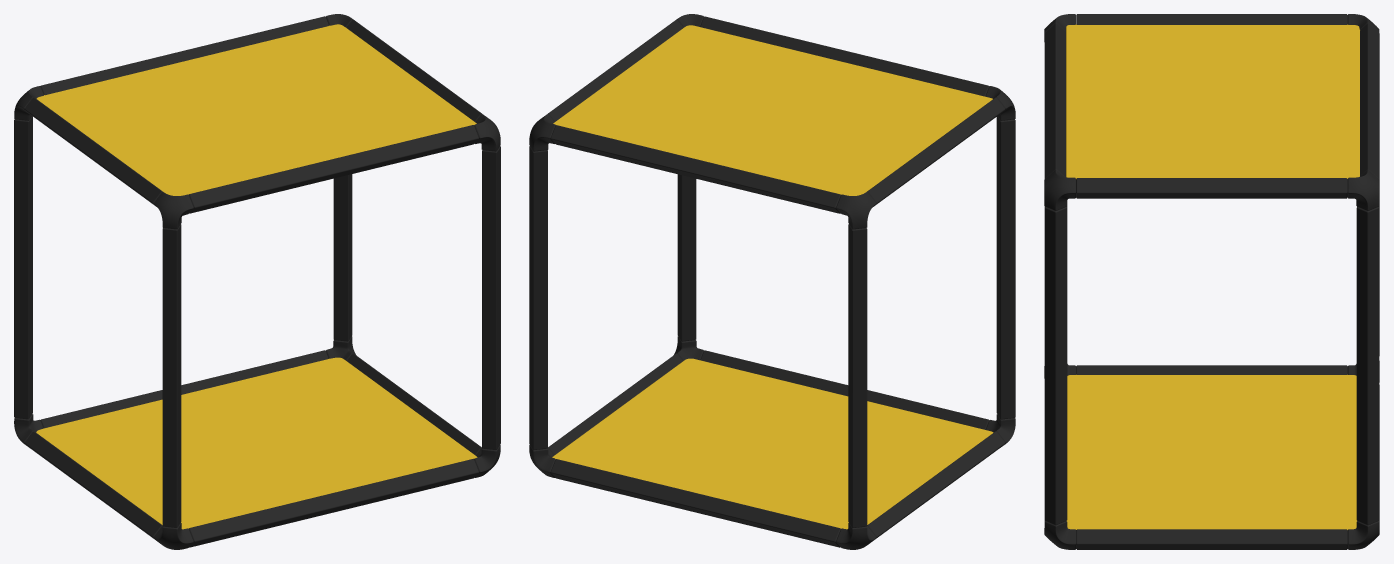
3 views of the same model, side by side, from view 1: azimuth 30°, elevation 25°; view 2: azimuth 150°, elevation 25°; view 3: azimuth 270°, elevation 25° (orthographic). The views are drawn at different scales.
Visible parts, largest first — view 1: 420x329x420; view 2: 420x329x420; view 3: 420x329x420.
Part boxes in pixels (<box>): 420x329x420: <box>14,14,500,549</box>; 420x329x420: <box>529,14,1015,549</box>; 420x329x420: <box>1044,14,1379,549</box>.
Bounding box in the file's own units: 0.4977 × 0.4976 × 0.4063.
